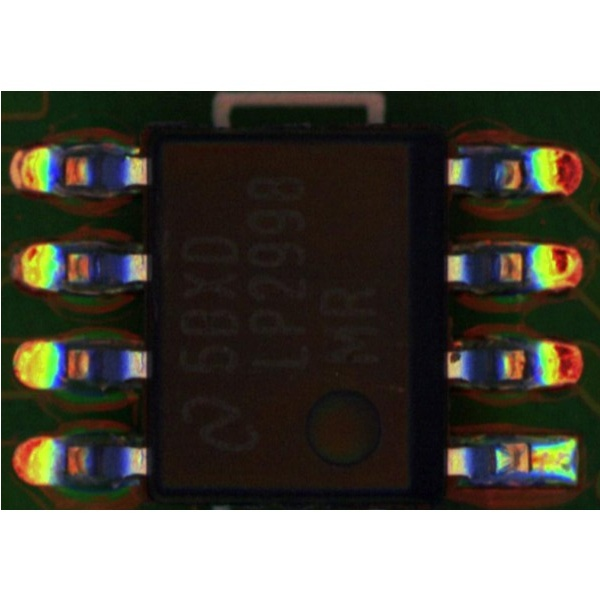Bad_podu: (519, 448, 545, 472)
